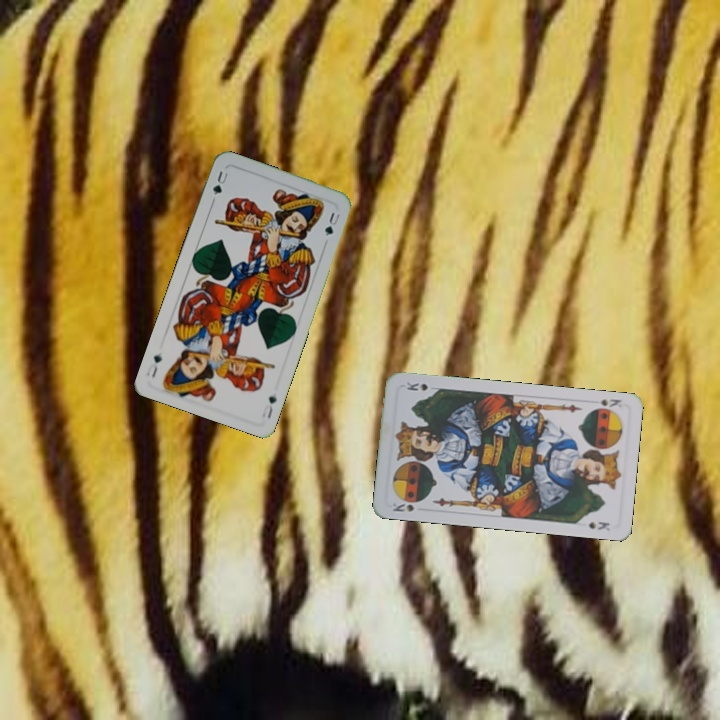GU: (209, 167, 230, 198), (258, 392, 279, 422)
SK: (595, 395, 624, 410), (389, 499, 417, 514)
